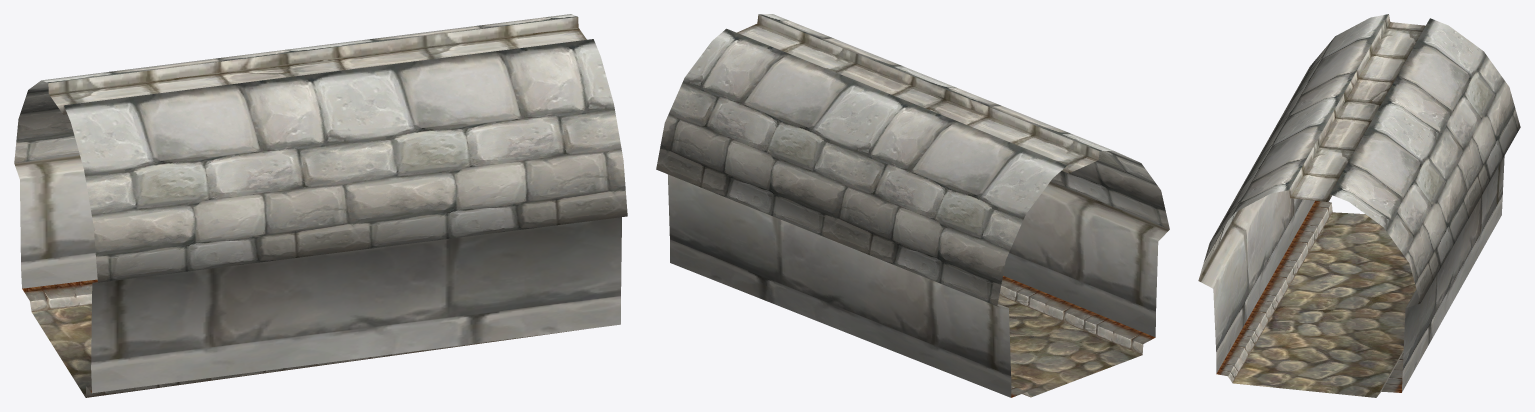
The model's file is stormwind_016.fbx.
3 views of the same model, side by side, from view 1: azimuth 30°, elevation 25°; view 2: azimuth 150°, elevation 25°; view 3: azimuth 270°, elevation 25° (orthographic). The views are drawn at different scales.
Parts seen in each view (by area): view 1: stormwind_016_4, stormwind_016_11, stormwind_016_5, stormwind_016_46, stormwind_016_12; view 2: stormwind_016_4, stormwind_016_11, stormwind_016_5, stormwind_016_46, stormwind_016_12; view 3: stormwind_016_4, stormwind_016_46, stormwind_016_11, stormwind_016_5, stormwind_016_12.
Part boxes in pixels (x1,y1,x2,y2): stormwind_016_4: [14, 14, 627, 282]; stormwind_016_11: [14, 155, 621, 393]; stormwind_016_5: [48, 17, 586, 114]; stormwind_016_46: [31, 305, 91, 397]; stormwind_016_12: [22, 279, 578, 397]; stormwind_016_4: [656, 14, 1169, 305]; stormwind_016_11: [667, 174, 1169, 397]; stormwind_016_5: [737, 14, 1099, 173]; stormwind_016_46: [998, 295, 1142, 397]; stormwind_016_12: [999, 276, 1155, 397]; stormwind_016_4: [1198, 14, 1520, 302]; stormwind_016_46: [1233, 212, 1416, 397]; stormwind_016_11: [1198, 156, 1504, 391]; stormwind_016_5: [1289, 14, 1425, 201]; stormwind_016_12: [1216, 200, 1403, 396].
Bounding box in the file's own units: 20.72 × 9.91 × 14.2.
